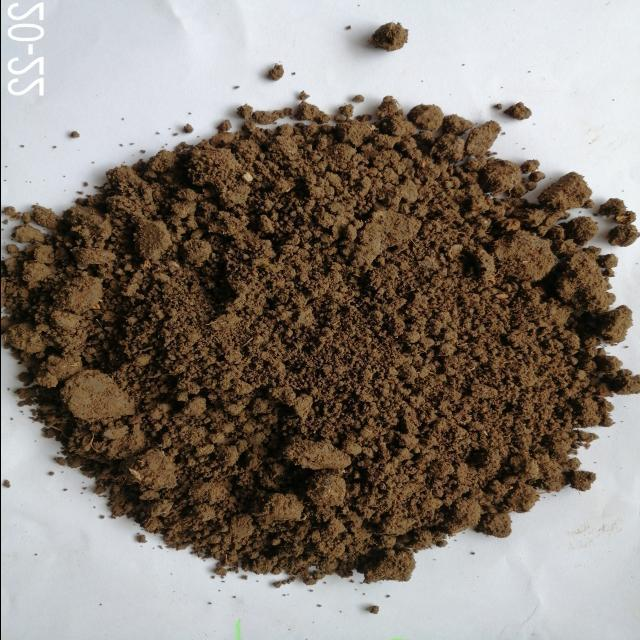soil: (68, 224, 546, 484)
